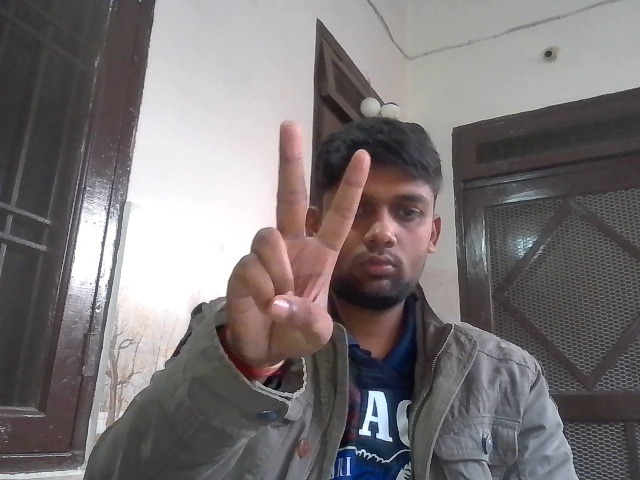Enjoy: (226, 122, 370, 361)
